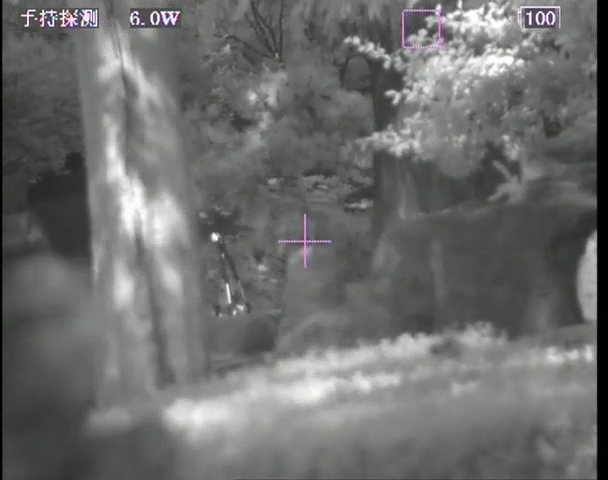my: (208, 229, 223, 244)
